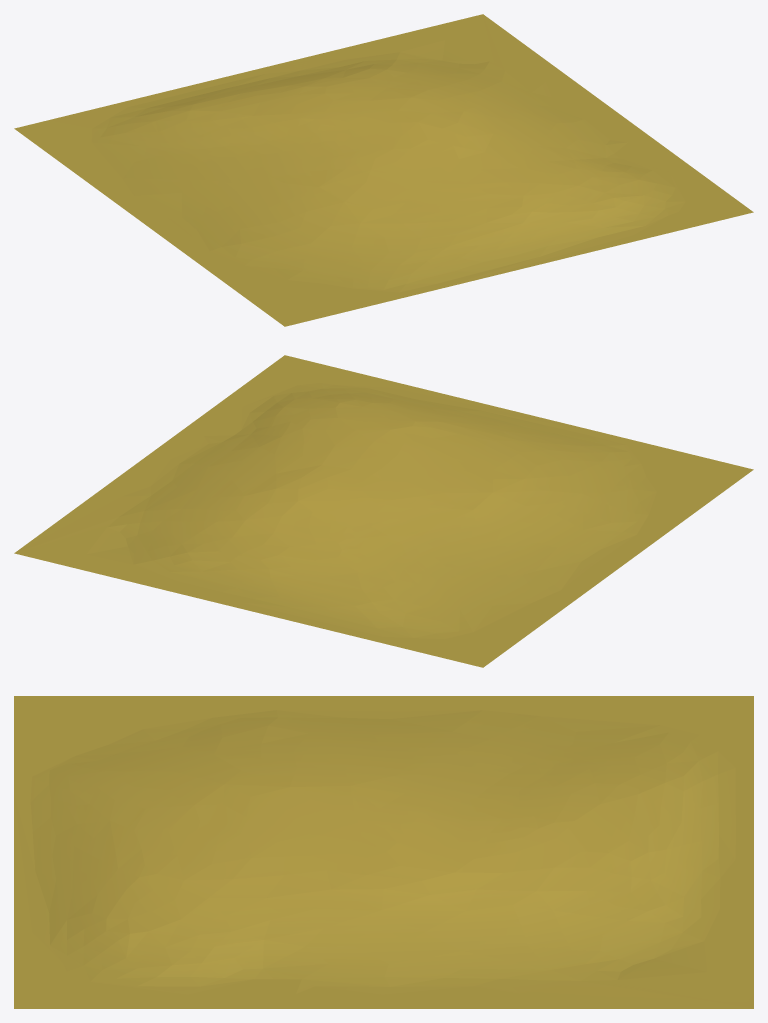
Rendered from Terrain_15.glb.
The picture shows the model from 3 angles, top to bottom: view 1: azimuth 30°, elevation 25°; view 2: azimuth 150°, elevation 25°; view 3: azimuth 270°, elevation 25°; orthographic projection. The views are drawn at different scales.
Parts seen in each view (by area): view 1: Terrain_15; view 2: Terrain_15; view 3: Terrain_15.
Part boxes in pixels (bbox=[...]): Terrain_15: bbox=[14, 14, 753, 326]; Terrain_15: bbox=[14, 355, 753, 667]; Terrain_15: bbox=[14, 696, 753, 1008].
Size of the model in its own units: 128 by 4.06 by 128.
Materials: 1 (1 with a texture image).
